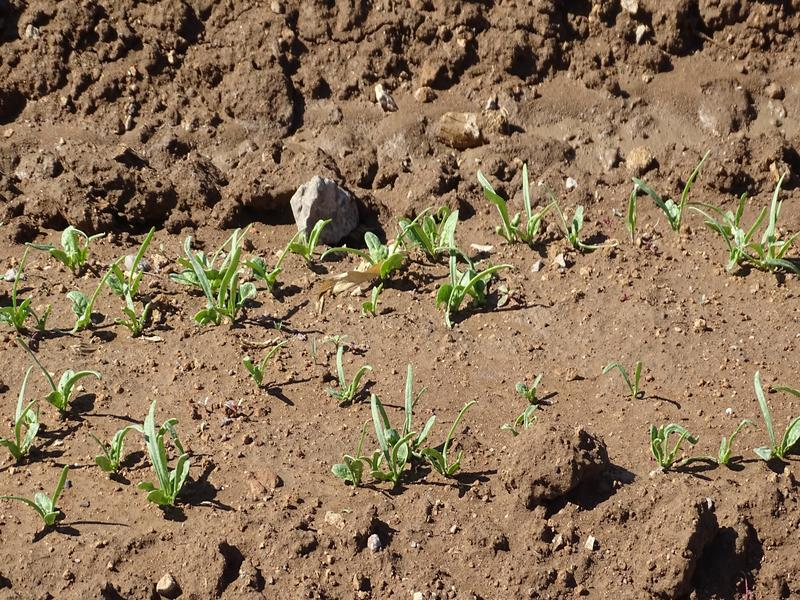Espinaca: (2, 355, 193, 518), (14, 225, 262, 332), (281, 211, 505, 315), (321, 356, 470, 478), (638, 173, 800, 276), (488, 172, 612, 258), (636, 399, 800, 463), (247, 341, 287, 387), (607, 359, 652, 399)
